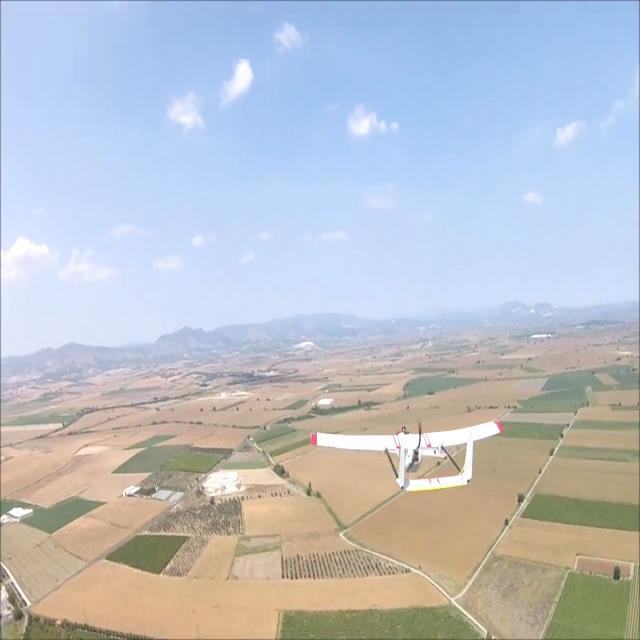iha: (310, 450, 503, 457)
